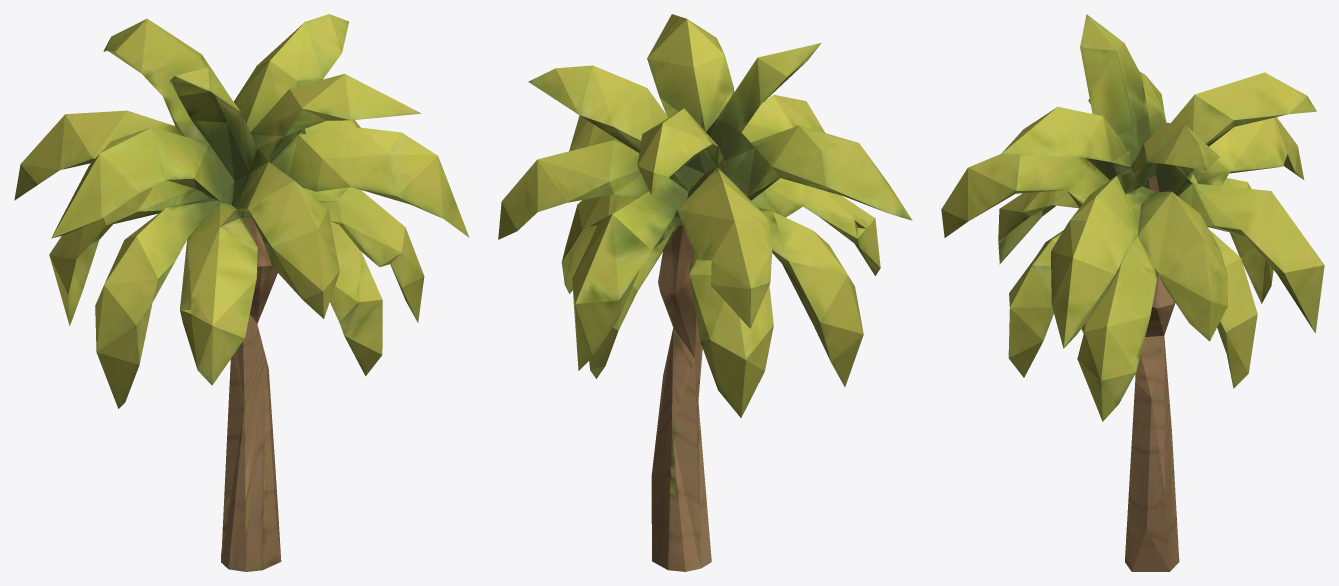
Rendered from palm_c_far.glb.
3 views of the same model, side by side, from view 1: azimuth 30°, elevation 25°; view 2: azimuth 150°, elevation 25°; view 3: azimuth 270°, elevation 25° (orthographic). The views are drawn at different scales.
Parts seen in each view (by area): view 1: body; view 2: body; view 3: body.
Boxes of the visible parts, bbox=[...] form: body: bbox=[14, 14, 469, 571]; body: bbox=[498, 14, 912, 571]; body: bbox=[941, 14, 1324, 571].
Bounding box in the file's own units: 3.45 × 4.51 × 3.14.
2 materials, 2 textured.
